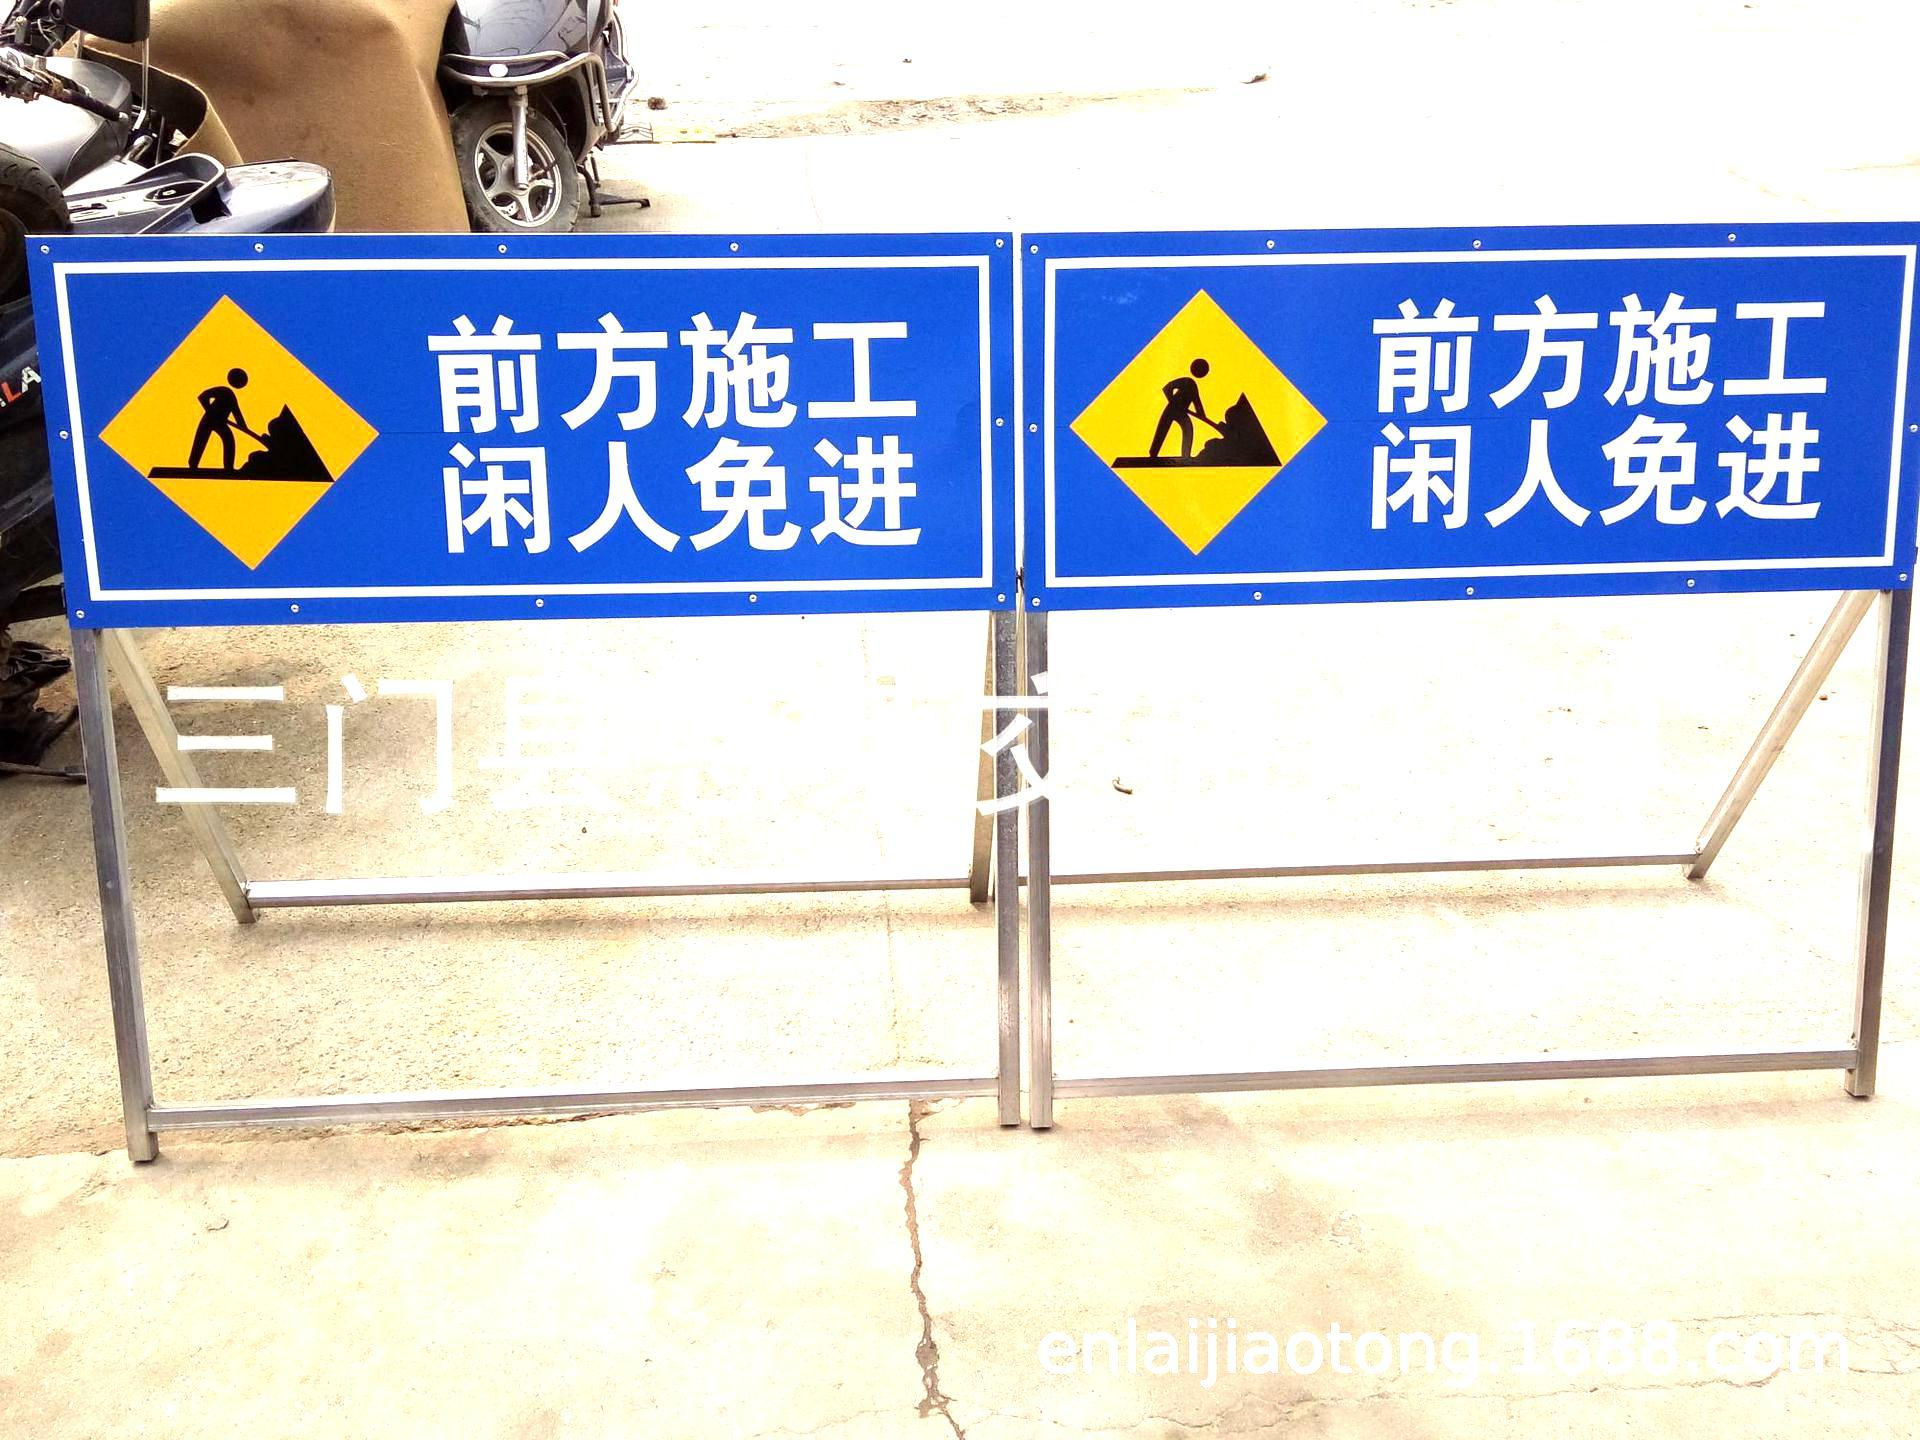sign: (33, 245, 999, 604), (1031, 237, 1909, 579)
